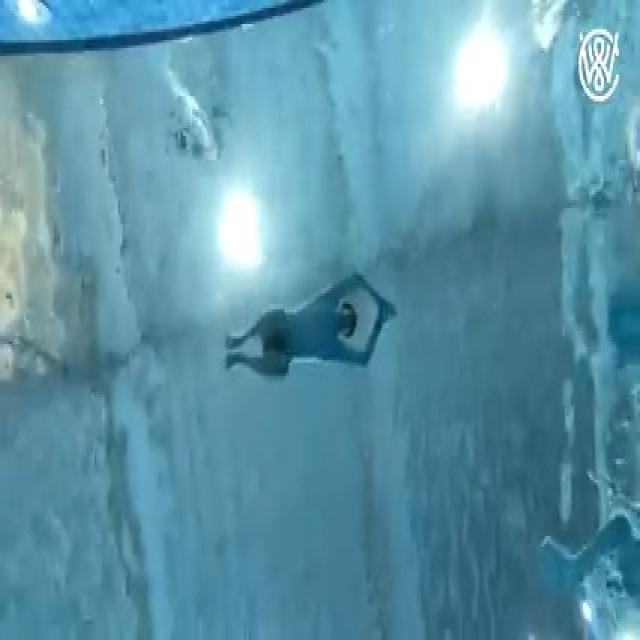Swimming: (221, 274, 398, 386)
